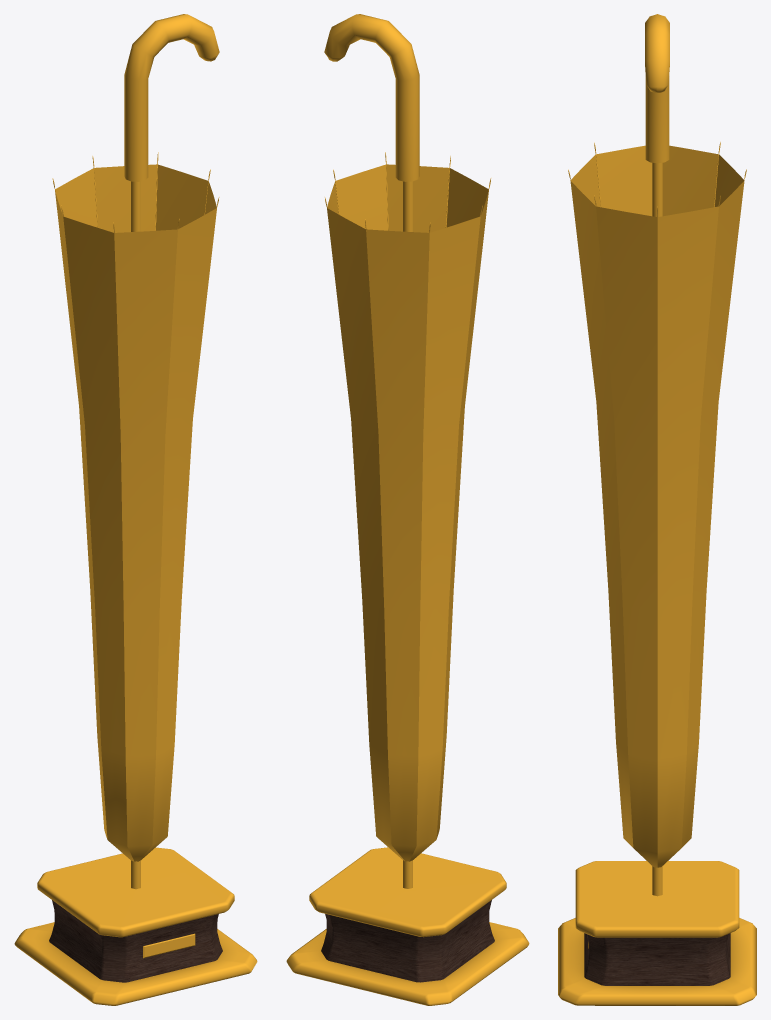
Rendered from Trophy_Umbrella.fbx.
The picture shows the model from 3 angles, left to right: view 1: azimuth 30°, elevation 25°; view 2: azimuth 150°, elevation 25°; view 3: azimuth 270°, elevation 25°; orthographic projection. The views are drawn at different scales.
Parts seen in each view (by area): view 1: Umbrella, Trophy; view 2: Umbrella, Trophy; view 3: Umbrella, Trophy.
Boxes of the visible parts, x1,y1,x2,y2 form: Umbrella: [52, 14, 219, 889]; Trophy: [14, 847, 257, 1005]; Umbrella: [324, 14, 491, 888]; Trophy: [286, 847, 529, 1005]; Umbrella: [568, 14, 746, 896]; Trophy: [558, 861, 756, 1005].
Bounding box in the file's own units: 8.37 × 44.72 × 8.37.
Materials: 2 (1 with a texture image).
